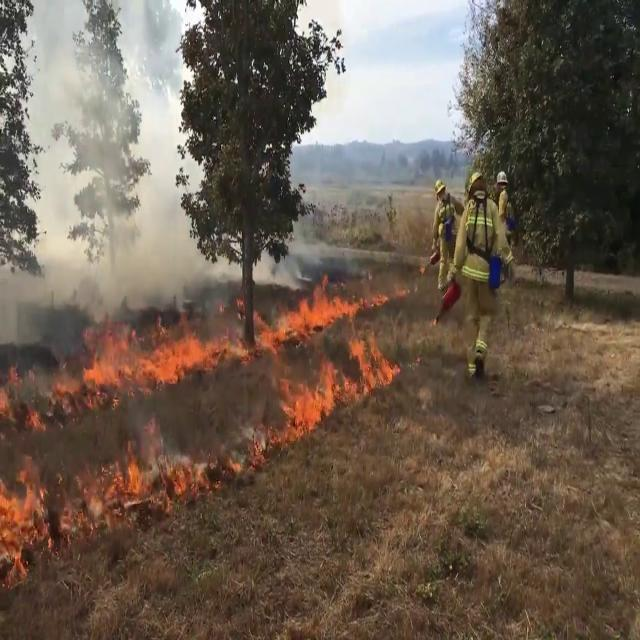Fire: (266, 269, 396, 439), (72, 408, 216, 524), (74, 304, 227, 396), (0, 453, 52, 583)
Smoke: (2, 5, 216, 319)
